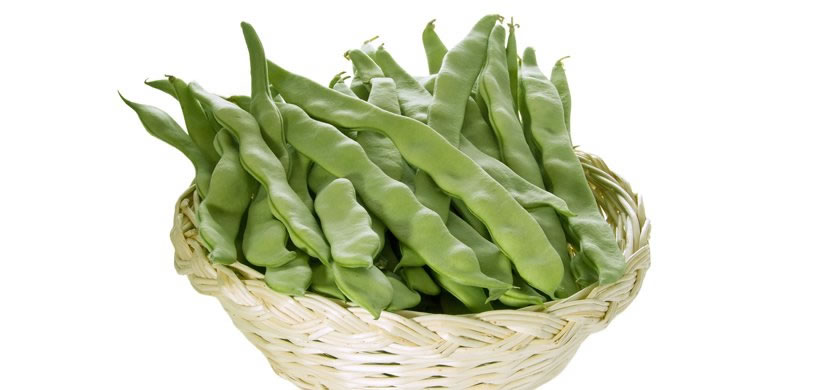Beans: (256, 52, 567, 300), (183, 79, 331, 272)
